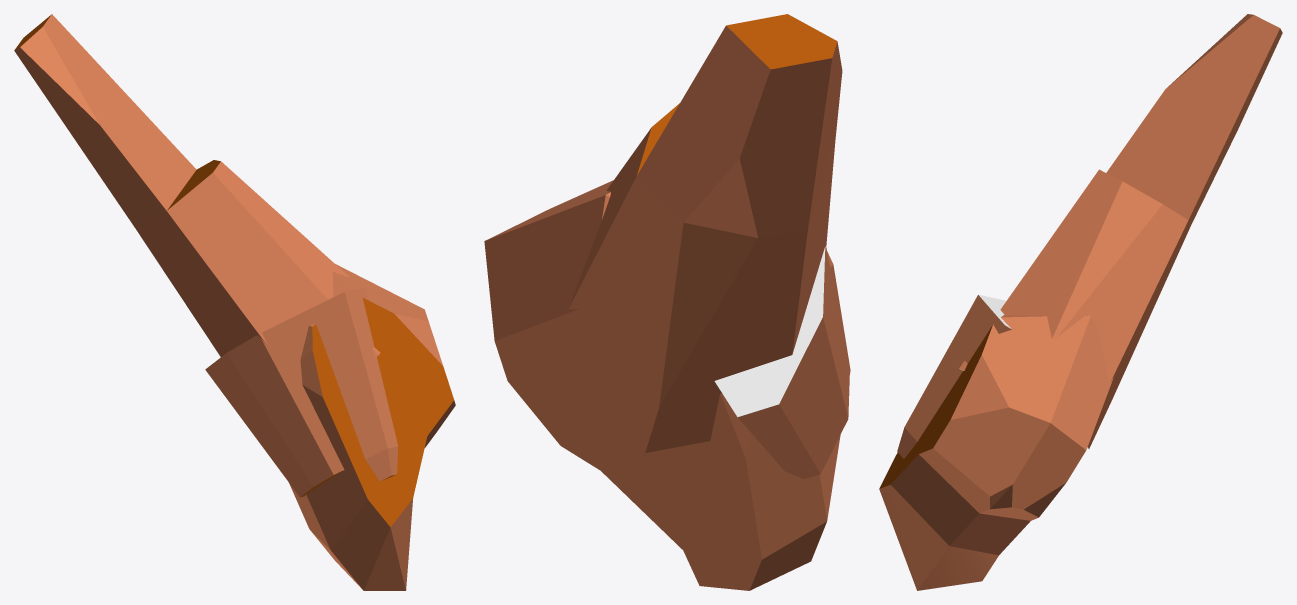
The model's file is astroid01.glb.
3 views of the same model, side by side, from view 1: azimuth 30°, elevation 25°; view 2: azimuth 150°, elevation 25°; view 3: azimuth 270°, elevation 25° (orthographic). The views are drawn at different scales.
Visible parts, largest first — view 1: mergedBlocks(Clone); view 2: mergedBlocks(Clone); view 3: mergedBlocks(Clone).
Boxes of the visible parts, x1,y1,x2,y2 form: mergedBlocks(Clone): [14, 14, 455, 590]; mergedBlocks(Clone): [484, 14, 850, 590]; mergedBlocks(Clone): [879, 14, 1282, 590].
Bounding box in the file's own units: 1.16 × 1.73 × 1.31.
1 material, 1 textured.
